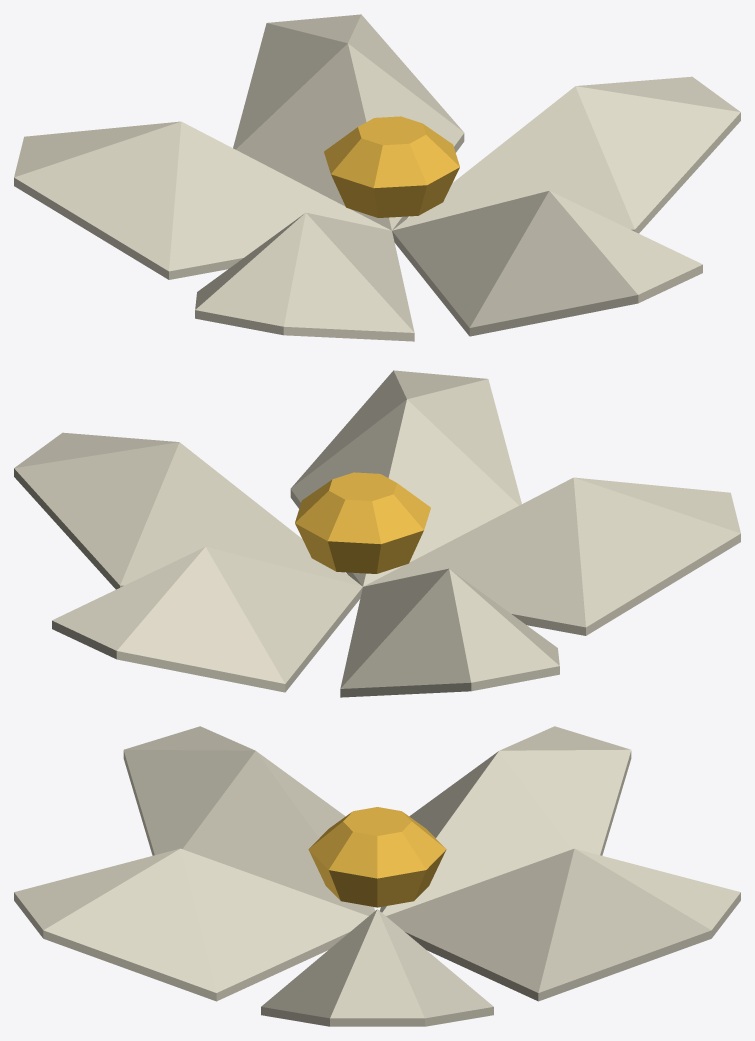
3 renders of one model, top to bottom at view 1: azimuth 30°, elevation 25°; view 2: azimuth 150°, elevation 25°; view 3: azimuth 270°, elevation 25°, orthographic. The views are drawn at different scales.
Visible parts, largest first — view 1: 完整纸花_1.001; view 2: 完整纸花_1.001; view 3: 完整纸花_1.001.
Part boxes in pixels (left/top/right/bottom): 完整纸花_1.001: left=14, top=14, right=740, bottom=341; 完整纸花_1.001: left=14, top=370, right=740, bottom=697; 完整纸花_1.001: left=14, top=726, right=740, bottom=1026.
Bounding box in the file's own units: 0.2243 × 0.038 × 0.2359.
